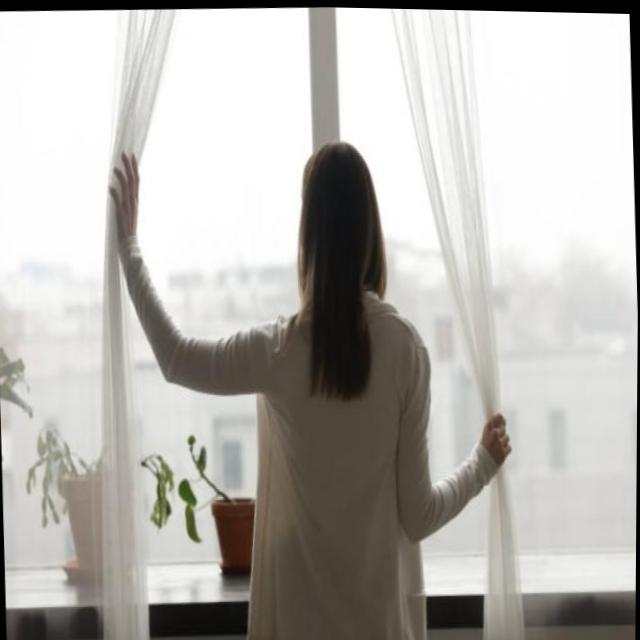no helmet: (280, 129, 398, 379)
